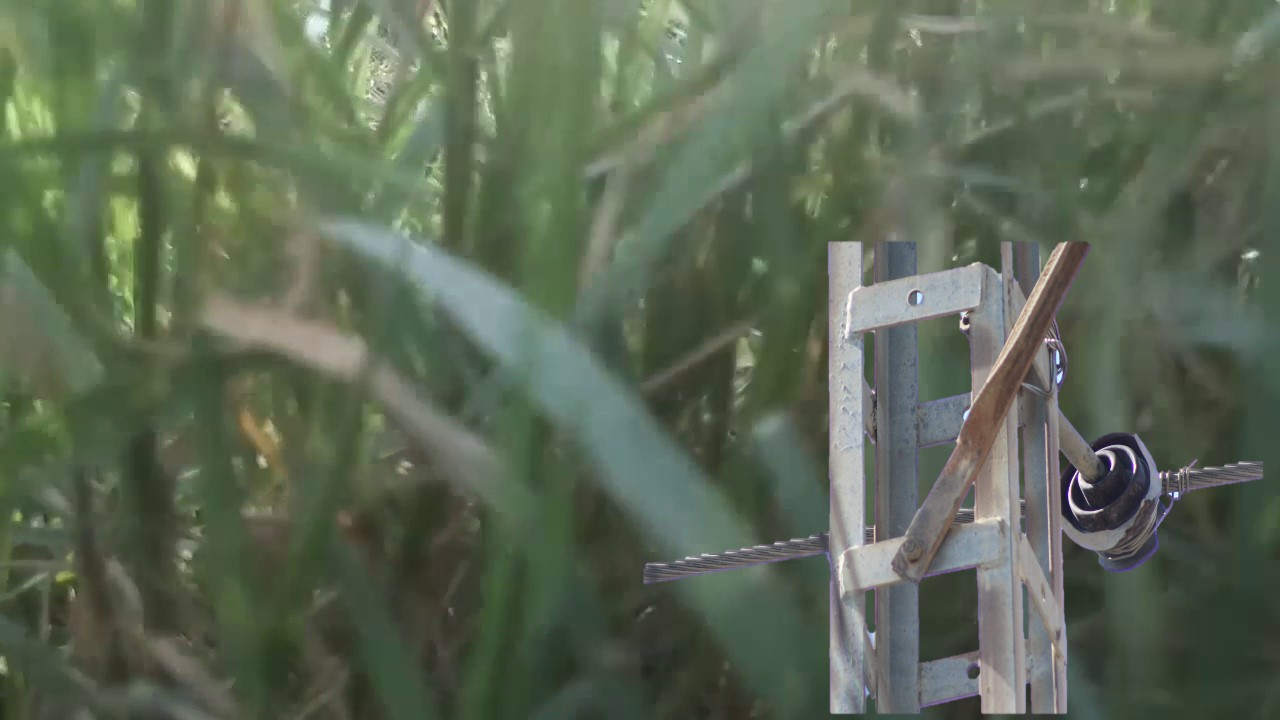defect_pin: (1059, 427, 1176, 581)
